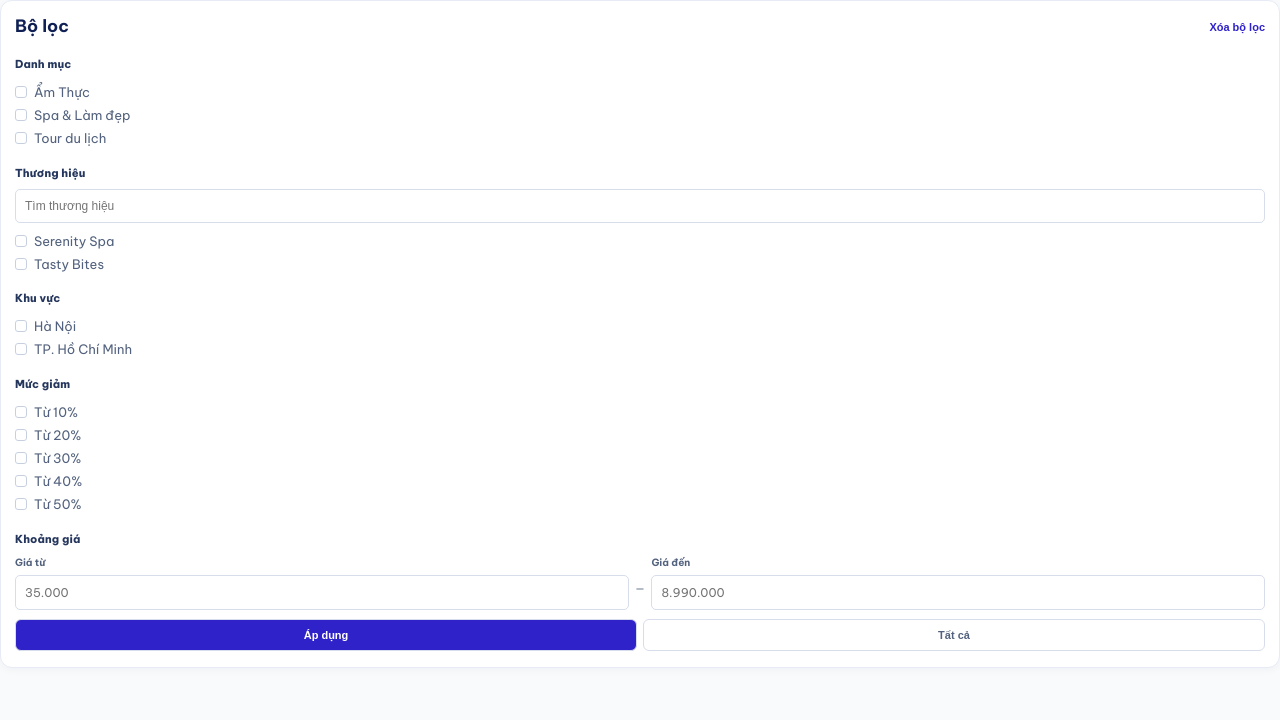
SearchFilters › filters the visible partner choices without applying a catalogue filter
Type "serenity" into the search field labelled "Tìm thương hiệu".
click(640, 206); type("serenity")  # box [15, 189, 1265, 223]
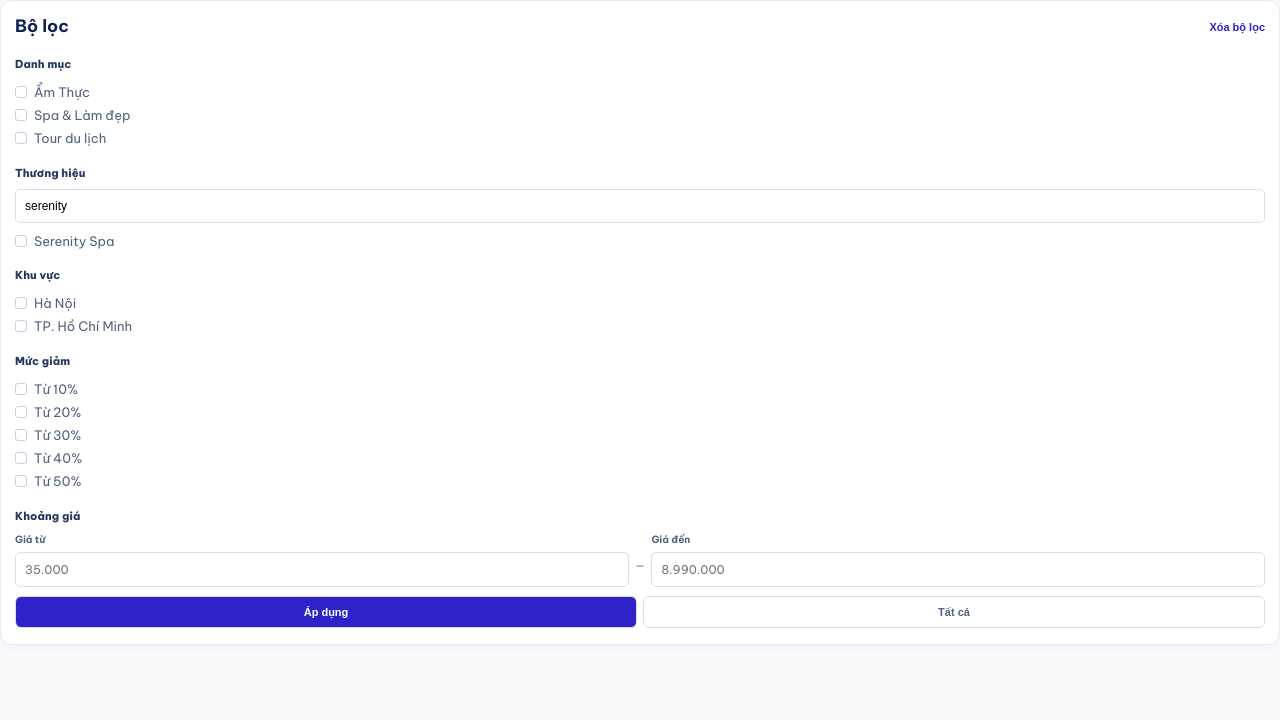
Check: the button "Serenity Spa" is shown, box [15, 229, 1265, 252]
Check: the button "Tasty Bites" is gone
